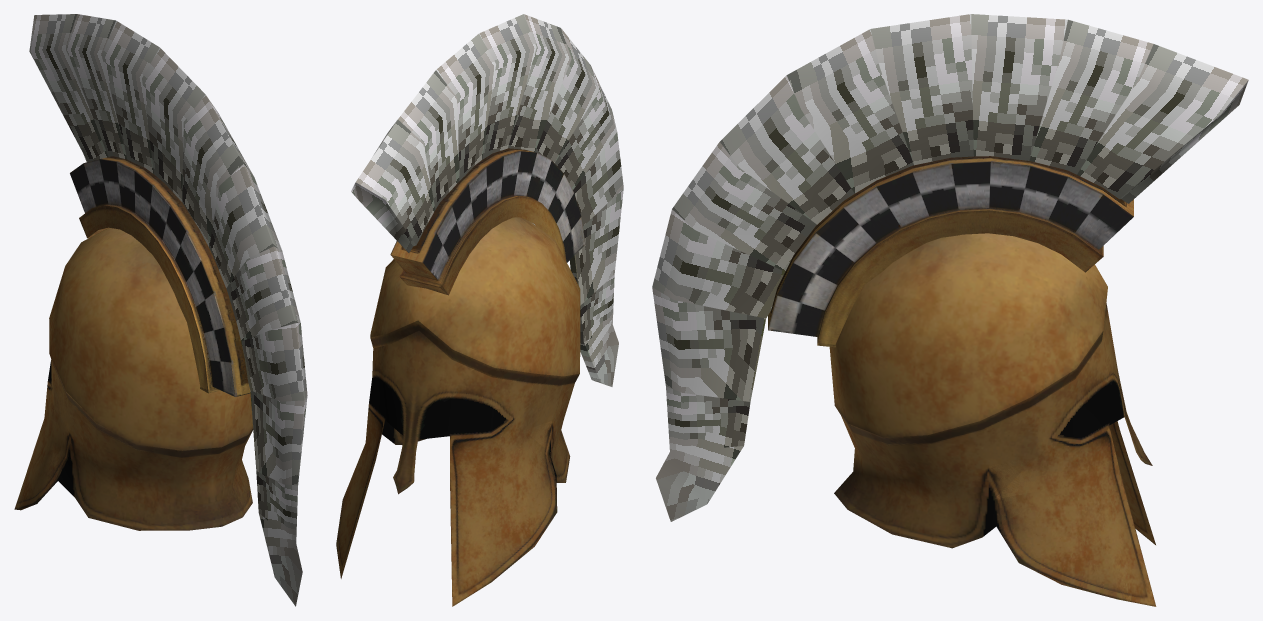
The model's file is helm_hele_corinthian_e3.glb.
The picture shows the model from 3 angles, left to right: view 1: azimuth 30°, elevation 25°; view 2: azimuth 150°, elevation 25°; view 3: azimuth 270°, elevation 25°; orthographic projection. The views are drawn at different scales.
Parts seen in each view (by area): view 1: helm_hele_corinthian_e3_part0, helm_hele_corinthian_e3_part2, helm_hele_corinthian_e3_part1; view 2: helm_hele_corinthian_e3_part0, helm_hele_corinthian_e3_part2, helm_hele_corinthian_e3_part1; view 3: helm_hele_corinthian_e3_part2, helm_hele_corinthian_e3_part0, helm_hele_corinthian_e3_part1.
Boxes of the visible parts, x1,y1,x2,y2 form: helm_hele_corinthian_e3_part0: (14, 227, 253, 530); helm_hele_corinthian_e3_part2: (29, 14, 307, 606); helm_hele_corinthian_e3_part1: (70, 156, 250, 396); helm_hele_corinthian_e3_part0: (336, 217, 580, 606); helm_hele_corinthian_e3_part2: (351, 14, 623, 386); helm_hele_corinthian_e3_part1: (390, 148, 585, 295); helm_hele_corinthian_e3_part2: (652, 14, 1248, 521); helm_hele_corinthian_e3_part0: (829, 233, 1156, 606); helm_hele_corinthian_e3_part1: (768, 156, 1133, 347).
Bounding box in the file's own units: 0.5074 × 1.22 × 1.17.
3 materials, 3 textured.
